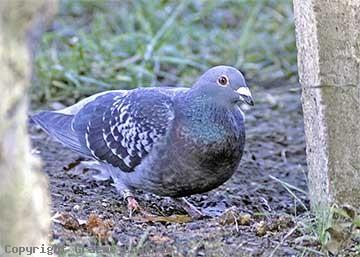Flying Rat: (38, 62, 255, 220)
